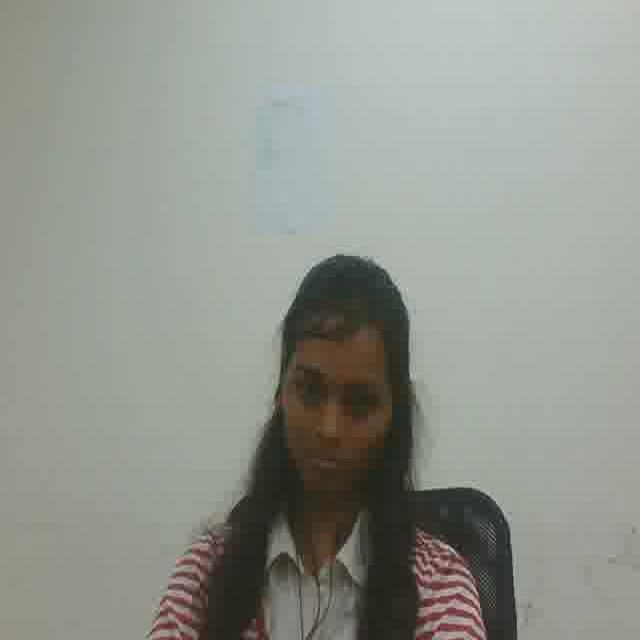Boredom: (282, 321, 386, 503)
